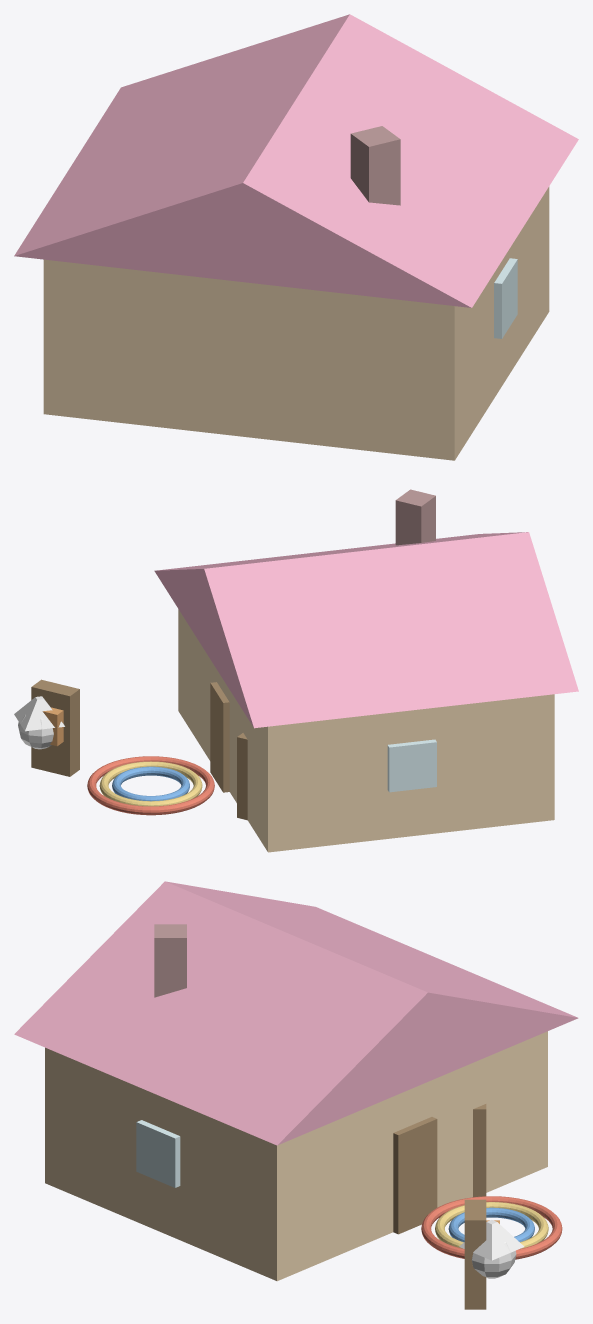
The model's file is house_iris.glb.
The picture shows the model from 3 angles, top to bottom: view 1: azimuth 30°, elevation 25°; view 2: azimuth 150°, elevation 25°; view 3: azimuth 270°, elevation 25°; orthographic projection. The views are drawn at different scales.
Visible parts, largest first — view 1: iris_atap.001, iris_dinding.001, iris_cerobong.001, iris_jendela_1.001; view 2: iris_atap.001, iris_dinding.001, iris_rak_kanan.001, iris_jendela_-1.001, iris_pelangi0.001, iris_cerobong.001, iris_pintu.001, iris_pelangi1.001, iris_pelangi2.001, iris_elang_sayap.001, iris_rak_kiri.001, iris_elang.001 (+1 smaller); view 3: iris_atap.001, iris_dinding.001, iris_pintu.001, iris_jendela_1.001, iris_cerobong.001, iris_pelangi0.001, iris_rak_kanan.001, iris_pelangi1.001, iris_rak_kiri.001, iris_elang_sayap.001, iris_pelangi2.001, iris_elang.001.
Boxes of the visible parts, x1=… form: iris_atap.001: x1=14, y1=14, x2=578, y2=307; iris_dinding.001: x1=43, y1=186, x2=549, y2=460; iris_cerobong.001: x1=350, y1=126, x2=400, y2=205; iris_jendela_1.001: x1=494, y1=258, x2=517, y2=338; iris_atap.001: x1=154, y1=532, x2=578, y2=728; iris_dinding.001: x1=178, y1=609, x2=554, y2=852; iris_rak_kanan.001: x1=31, y1=679, x2=79, y2=776; iris_jendela_-1.001: x1=387, y1=739, x2=436, y2=792; iris_pelangi0.001: x1=87, y1=756, x2=214, y2=815; iris_cerobong.001: x1=395, y1=489, x2=435, y2=545; iris_pintu.001: x1=210, y1=682, x2=229, y2=792; iris_pelangi1.001: x1=99, y1=761, x2=202, y2=806; iris_pelangi2.001: x1=112, y1=766, x2=189, y2=801; iris_elang_sayap.001: x1=14, y1=696, x2=64, y2=731; iris_rak_kiri.001: x1=237, y1=733, x2=247, y2=820; iris_elang.001: x1=18, y1=714, x2=53, y2=749; iris_atap.001: x1=14, y1=881, x2=578, y2=1145; iris_dinding.001: x1=45, y1=1031, x2=547, y2=1281; iris_pintu.001: x1=393, y1=1117, x2=437, y2=1234; iris_jendela_1.001: x1=136, y1=1120, x2=180, y2=1187; iris_cerobong.001: x1=154, y1=924, x2=186, y2=997; iris_pelangi0.001: x1=421, y1=1196, x2=562, y2=1259; iris_rak_kanan.001: x1=464, y1=1199, x2=486, y2=1309; iris_pelangi1.001: x1=435, y1=1202, x2=548, y2=1248; iris_rak_kiri.001: x1=473, y1=1104, x2=486, y2=1197; iris_elang_sayap.001: x1=459, y1=1220, x2=524, y2=1260; iris_pelangi2.001: x1=448, y1=1207, x2=534, y2=1241; iris_elang.001: x1=471, y1=1242, x2=516, y2=1278.
Bounding box in the file's own units: 11.33 × 5 × 10.32.
